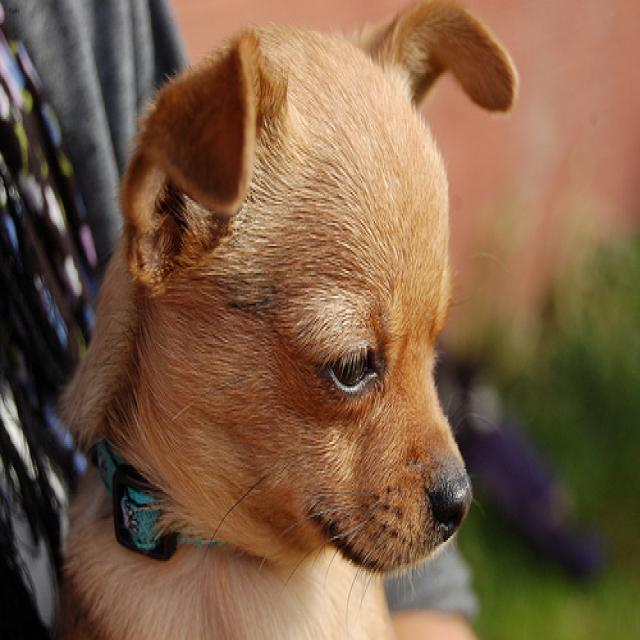dog-chihuahua: (51, 2, 524, 636)
